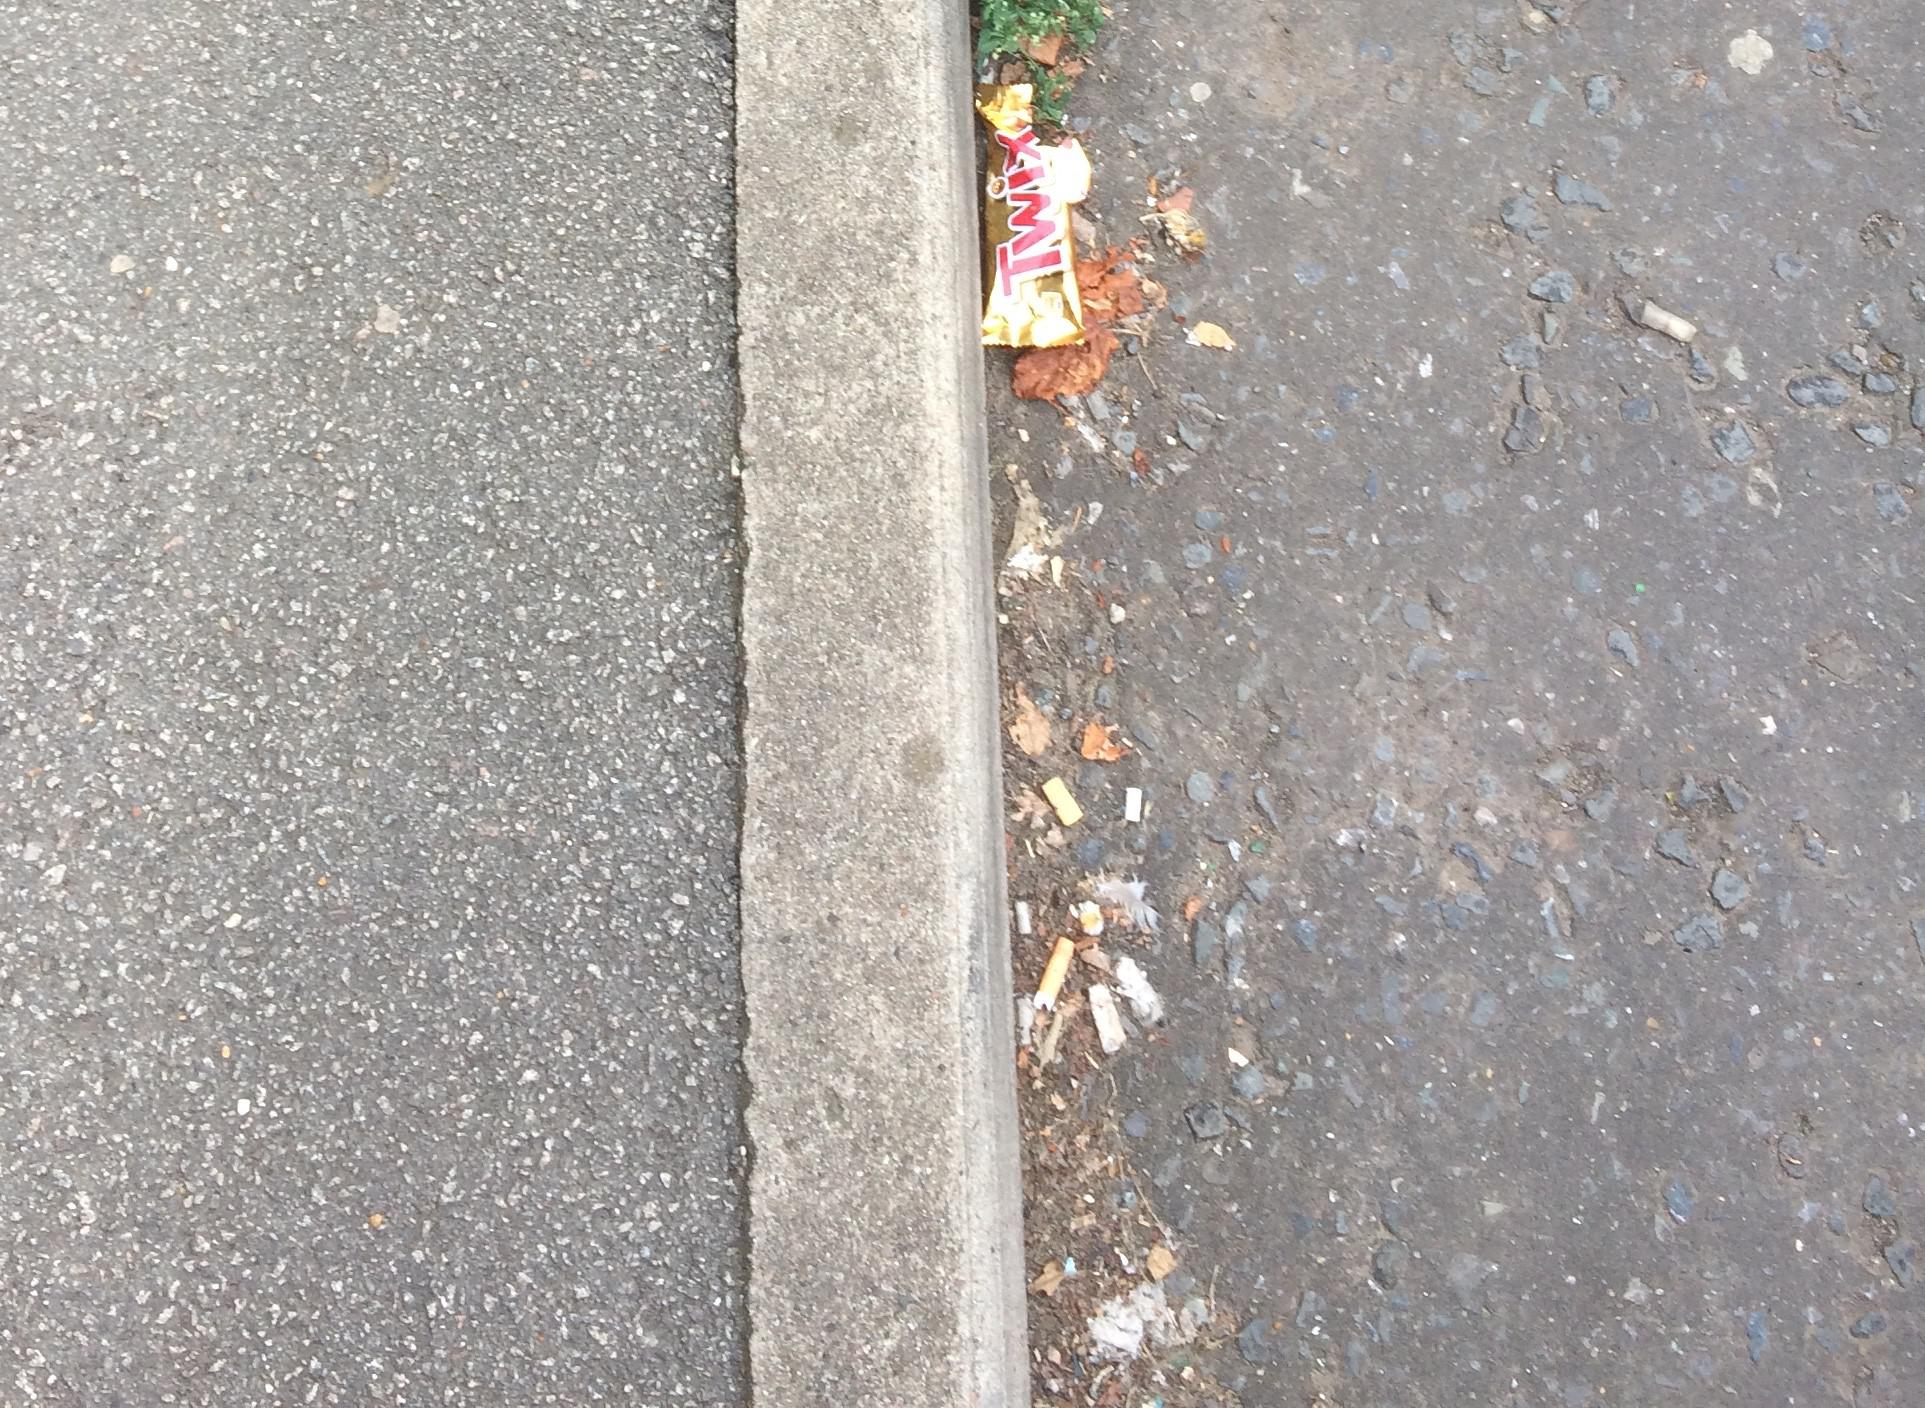Trash: (968, 73, 1085, 356)
